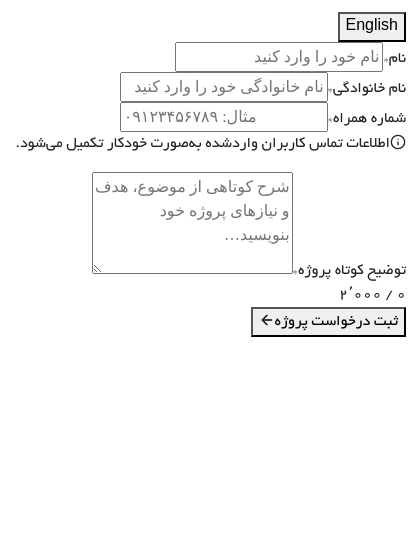
Test case: guests make no profile read and required or invalid fields block submission with accessible errors
Later steps or results of the test are not shown.
Click the button "ثبت درخواست پروژه". click: (328, 322)
box: [251,307,406,337]
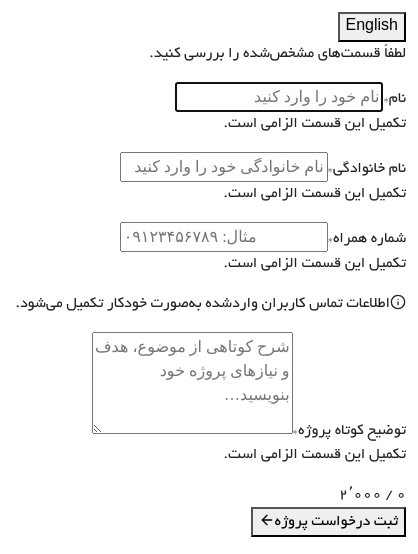
expect the field labelled "نام" is marked as invalid: met, box [176,82,384,112]
expect the field labelled "نام خانوادگی" is marked as invalid: met, box [120,152,328,182]
expect the field labelled "شماره همراه" is marked as invalid: met, box [120,222,328,252]
